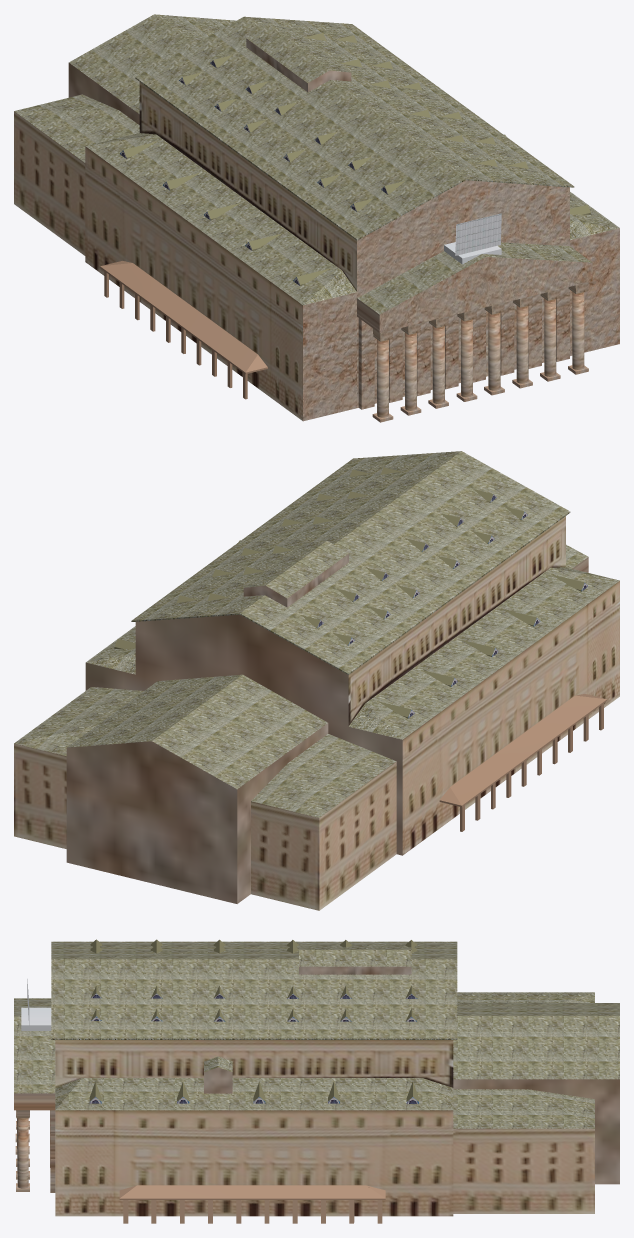
Rendered from opera.glb.
3 renders of one model, top to bottom at view 1: azimuth 30°, elevation 25°; view 2: azimuth 150°, elevation 25°; view 3: azimuth 270°, elevation 25°, orthographic. The views are drawn at different scales.
Visible parts, largest first — view 1: map_2.osm_buildings.002; view 2: map_2.osm_buildings.002; view 3: map_2.osm_buildings.002.
Boxes of the visible parts, x1=… form: map_2.osm_buildings.002: x1=14, y1=14, x2=619, y2=422; map_2.osm_buildings.002: x1=14, y1=451, x2=619, y2=910; map_2.osm_buildings.002: x1=14, y1=939, x2=619, y2=1223.
Bounding box in the file's own units: 75.5 × 43.25 × 121.
Materials: 5 (5 with a texture image).
